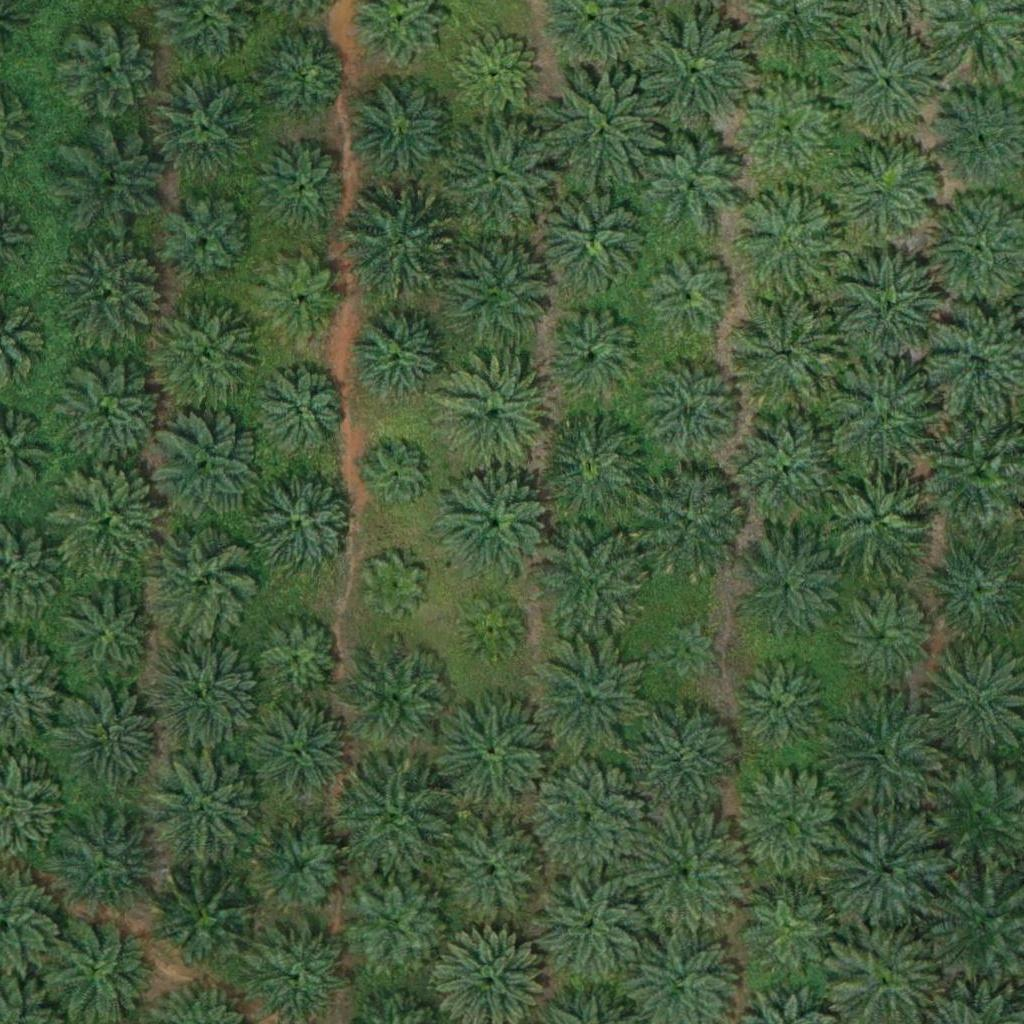Kelapa_Sawit: (347, 76, 460, 190), (339, 189, 452, 303), (827, 691, 940, 805), (733, 535, 846, 649), (152, 863, 265, 977), (56, 241, 169, 354), (51, 360, 164, 473), (345, 298, 458, 411), (437, 360, 550, 473), (638, 16, 751, 129), (734, 188, 847, 301), (726, 297, 839, 410), (831, 365, 944, 478), (822, 464, 935, 577), (827, 813, 940, 926), (731, 416, 844, 529), (530, 637, 643, 750), (534, 760, 647, 873), (439, 471, 552, 584), (436, 697, 549, 810), (144, 526, 257, 639), (148, 639, 261, 752), (149, 754, 262, 867), (49, 464, 162, 577), (51, 584, 164, 697), (529, 872, 642, 985), (445, 121, 557, 235), (442, 233, 554, 347), (539, 301, 651, 415), (633, 470, 745, 584), (536, 413, 648, 527), (47, 803, 159, 917), (56, 120, 168, 233), (149, 67, 261, 180), (146, 298, 258, 411), (546, 71, 658, 184), (540, 184, 652, 297), (829, 28, 941, 141), (834, 252, 946, 365), (734, 768, 846, 881), (628, 702, 740, 815), (630, 815, 742, 928), (539, 526, 651, 639), (436, 816, 548, 929), (340, 643, 452, 756), (339, 765, 451, 878), (248, 470, 360, 583), (242, 701, 354, 814), (148, 411, 260, 524), (52, 686, 164, 799), (58, 16, 158, 117), (155, 187, 255, 288), (639, 133, 739, 234), (735, 79, 835, 180), (835, 139, 935, 240), (250, 818, 350, 919), (350, 873, 450, 974), (739, 873, 839, 974), (252, 25, 352, 125), (252, 139, 352, 239), (642, 362, 742, 462), (832, 585, 932, 685), (730, 654, 830, 754), (253, 923, 353, 1023), (257, 371, 345, 459), (451, 30, 539, 118), (254, 611, 342, 699), (257, 255, 344, 343), (648, 252, 735, 340), (460, 598, 523, 661), (368, 444, 431, 507), (363, 555, 426, 618), (657, 618, 719, 681)
